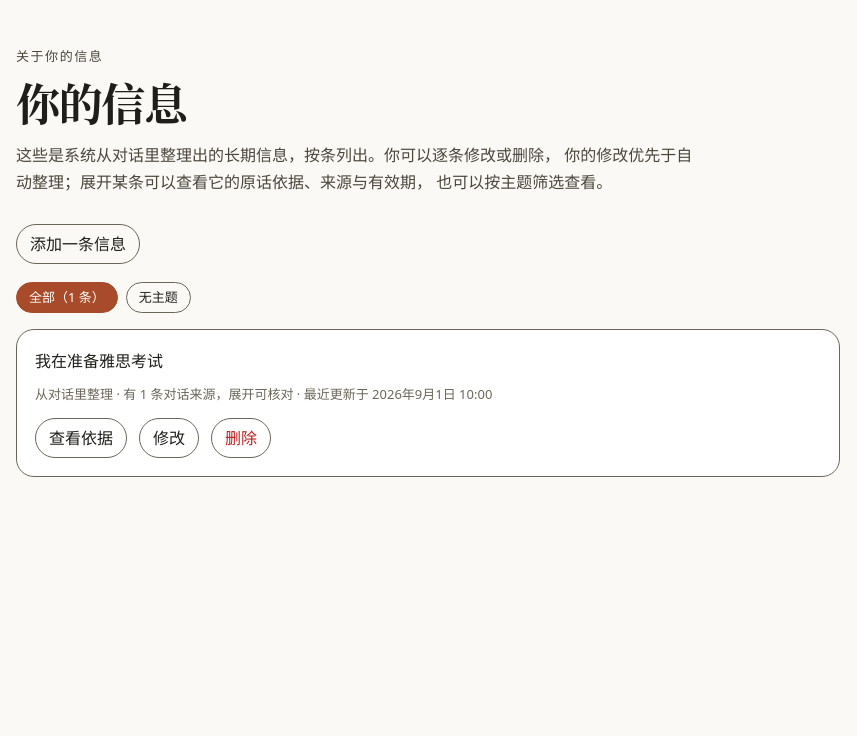
Scenario: AtomicProfileCenter › shows each verified source quote once and marks invalidated fragments
Click the button "查看依据".
click(81, 438)  # box [35,418,127,458]
(page scrolled)
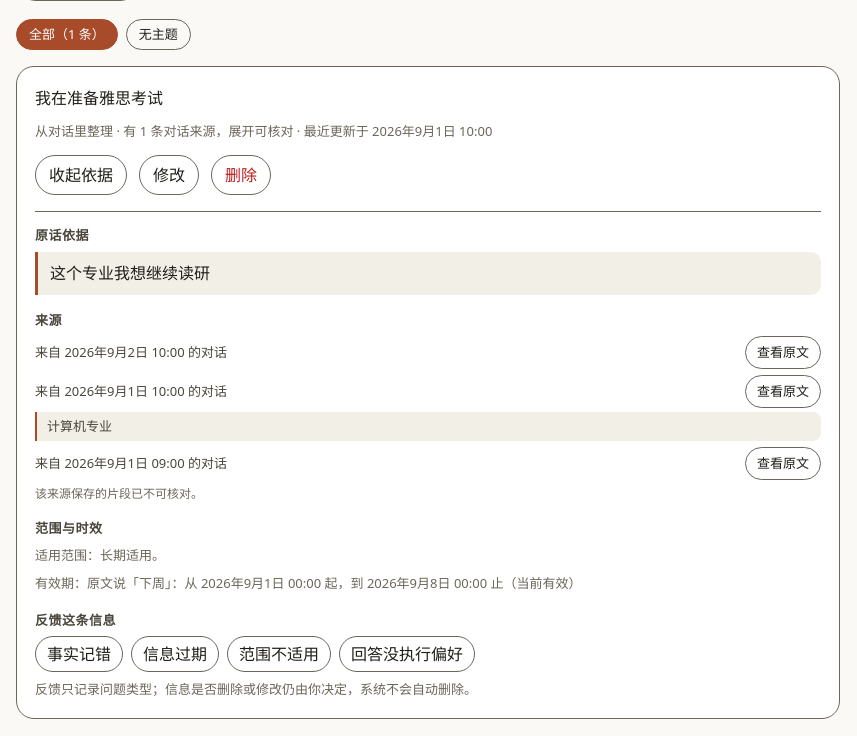
Result: the number of elements with test id "atomic-source-quote" is 1 at [35,412,821,441]
Result: the text with test id "atomic-source-quote" reads "计算机专业" at [47,417,112,435]
Result: the element with test id "atomic-evidence" shows "该来源保存的片段已不可核对。" at [35,485,203,502]
